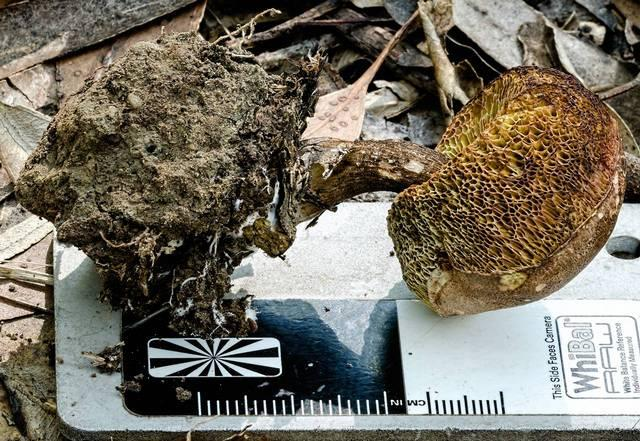Non-edible Mushroom: (384, 63, 629, 318)
